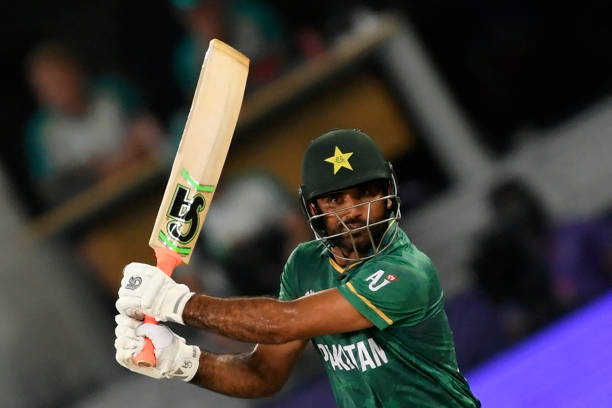bottom left: (197, 26, 225, 55)
bottom right: (240, 47, 264, 74)
top left: (141, 230, 163, 251)
top right: (176, 241, 204, 274)
